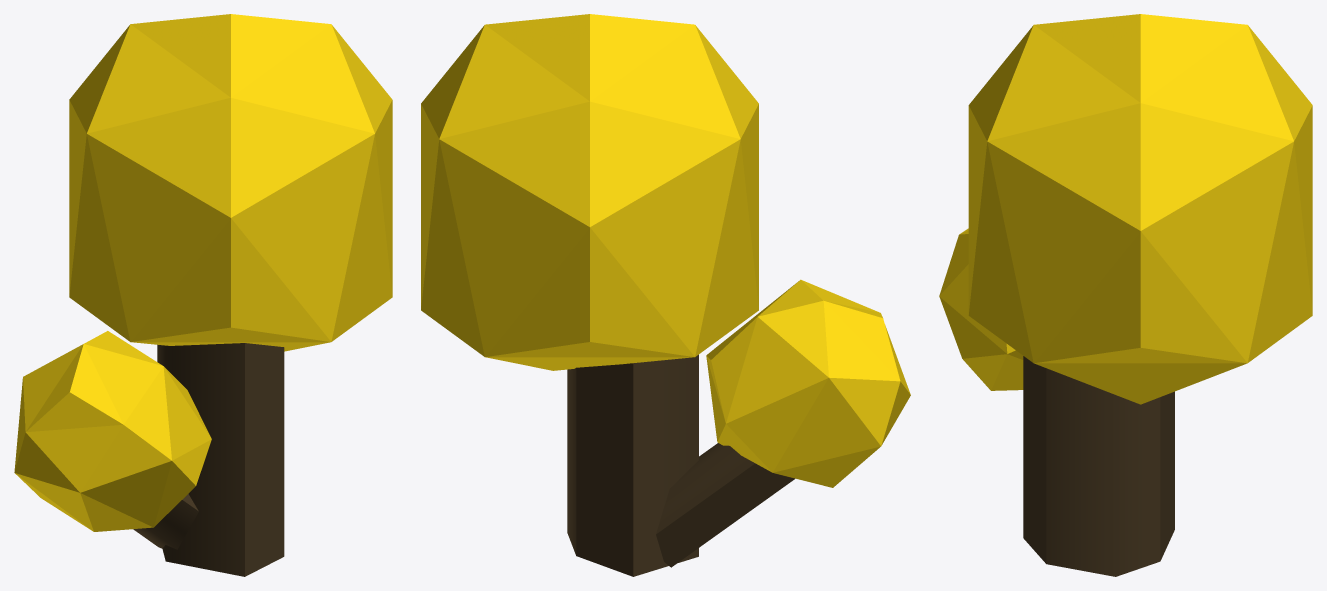
File: MDrzewko_zolte.FBX
3 renders of one model, left to right at view 1: azimuth 30°, elevation 25°; view 2: azimuth 150°, elevation 25°; view 3: azimuth 270°, elevation 25°, orthographic. The views are drawn at different scales.
Parts seen in each view (by area): view 1: GeoSphere006, GeoSphere007, Box005, Box006; view 2: GeoSphere006, GeoSphere007, Box005, Box006; view 3: GeoSphere006, Box005, GeoSphere007.
Boxes of the visible parts, x1=… form: GeoSphere006: x1=69, y1=14, x2=392, y2=351; GeoSphere007: x1=14, y1=331, x2=211, y2=531; Box005: x1=157, y1=343, x2=284, y2=576; Box006: x1=133, y1=494, x2=198, y2=549; GeoSphere006: x1=421, y1=14, x2=758, y2=370; GeoSphere007: x1=706, y1=279, x2=910, y2=487; Box005: x1=567, y1=354, x2=698, y2=576; Box006: x1=656, y1=443, x2=794, y2=567; GeoSphere006: x1=968, y1=14, x2=1312, y2=404; Box005: x1=1023, y1=356, x2=1174, y2=576; GeoSphere007: x1=939, y1=228, x2=1023, y2=390.
Size of the model in its own units: 8.89 by 10.6 by 6.54.
